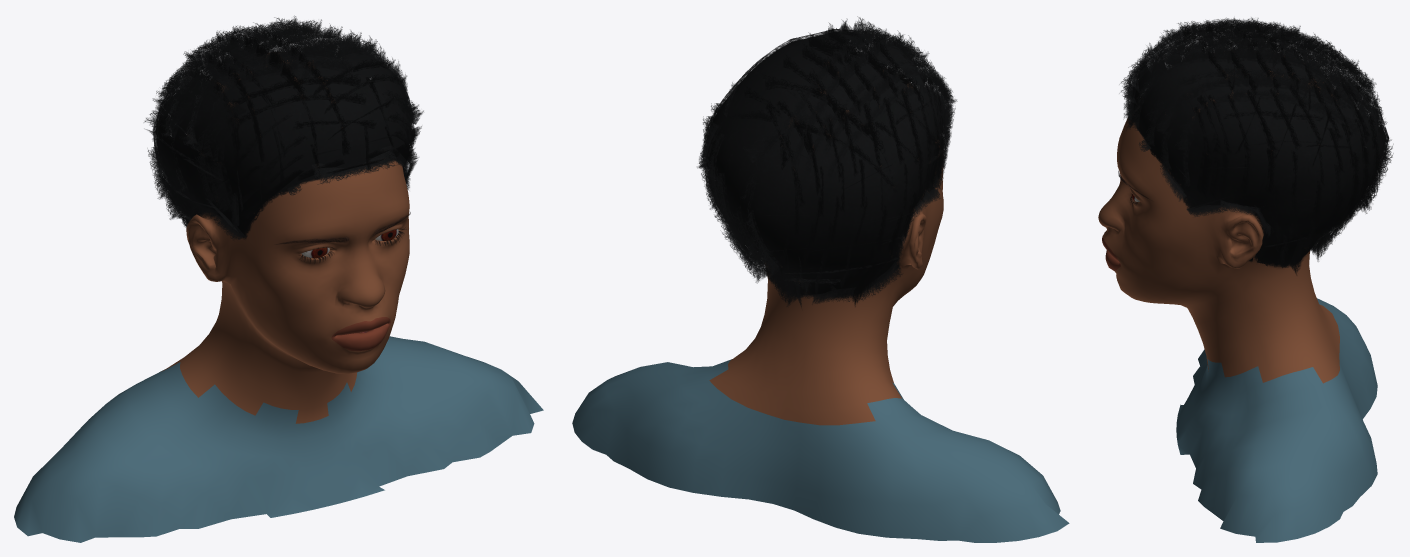
Rendered from neutral-01.glb.
3 renders of one model, left to right at view 1: azimuth 30°, elevation 25°; view 2: azimuth 150°, elevation 25°; view 3: azimuth 270°, elevation 25°, orthographic. The views are drawn at different scales.
Visible parts, largest first — view 1: mpfb-face, mpfb-face.afro01; view 2: mpfb-face, mpfb-face.afro01; view 3: mpfb-face, mpfb-face.afro01.
Part boxes in pixels (x1,y1,x2,y2): mpfb-face: (14,53,543,542); mpfb-face.afro01: (144,15,423,240); mpfb-face: (572,62,1069,542); mpfb-face.afro01: (697,16,957,307); mpfb-face: (1098,71,1377,542); mpfb-face.afro01: (1119,17,1393,275).
Size of the model in its own units: 0.4315 by 0.3572 by 0.2397.
9 materials, 6 textured.
